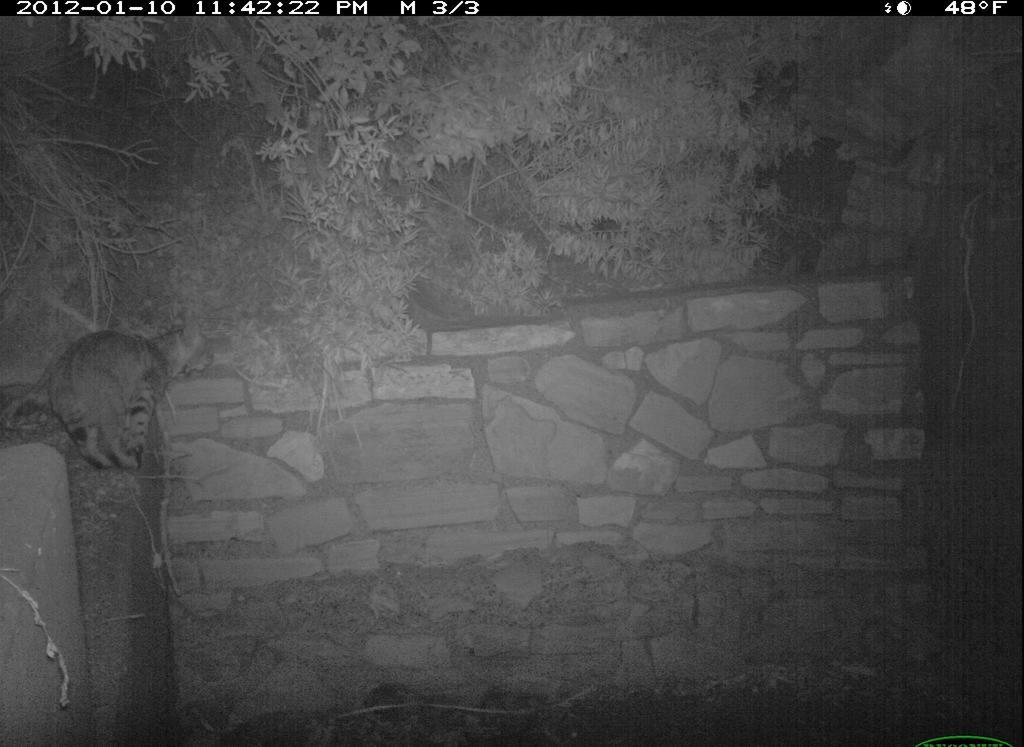bobcat: (45, 317, 217, 473)
